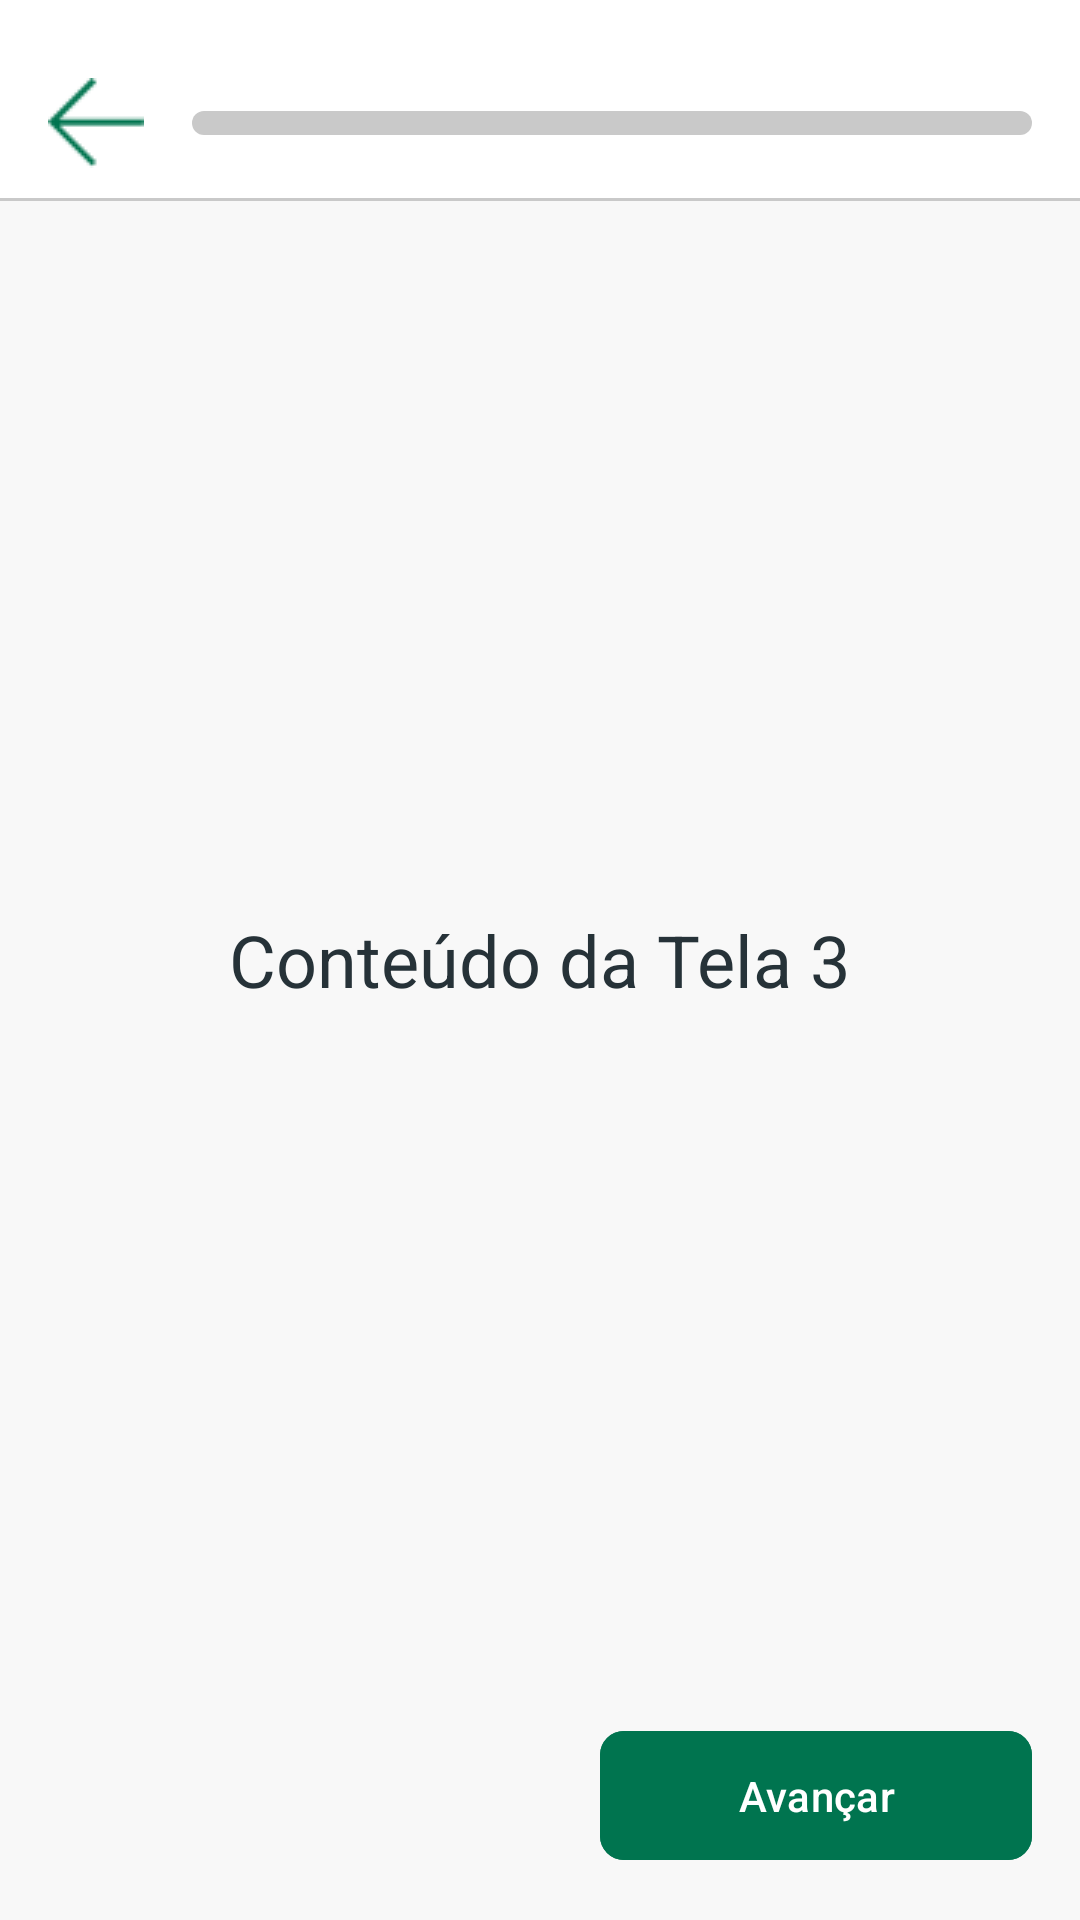

Screen size 1080px×1920px. Icon name, then its center in pixels as (x,y):
Voltar: (96,122)
